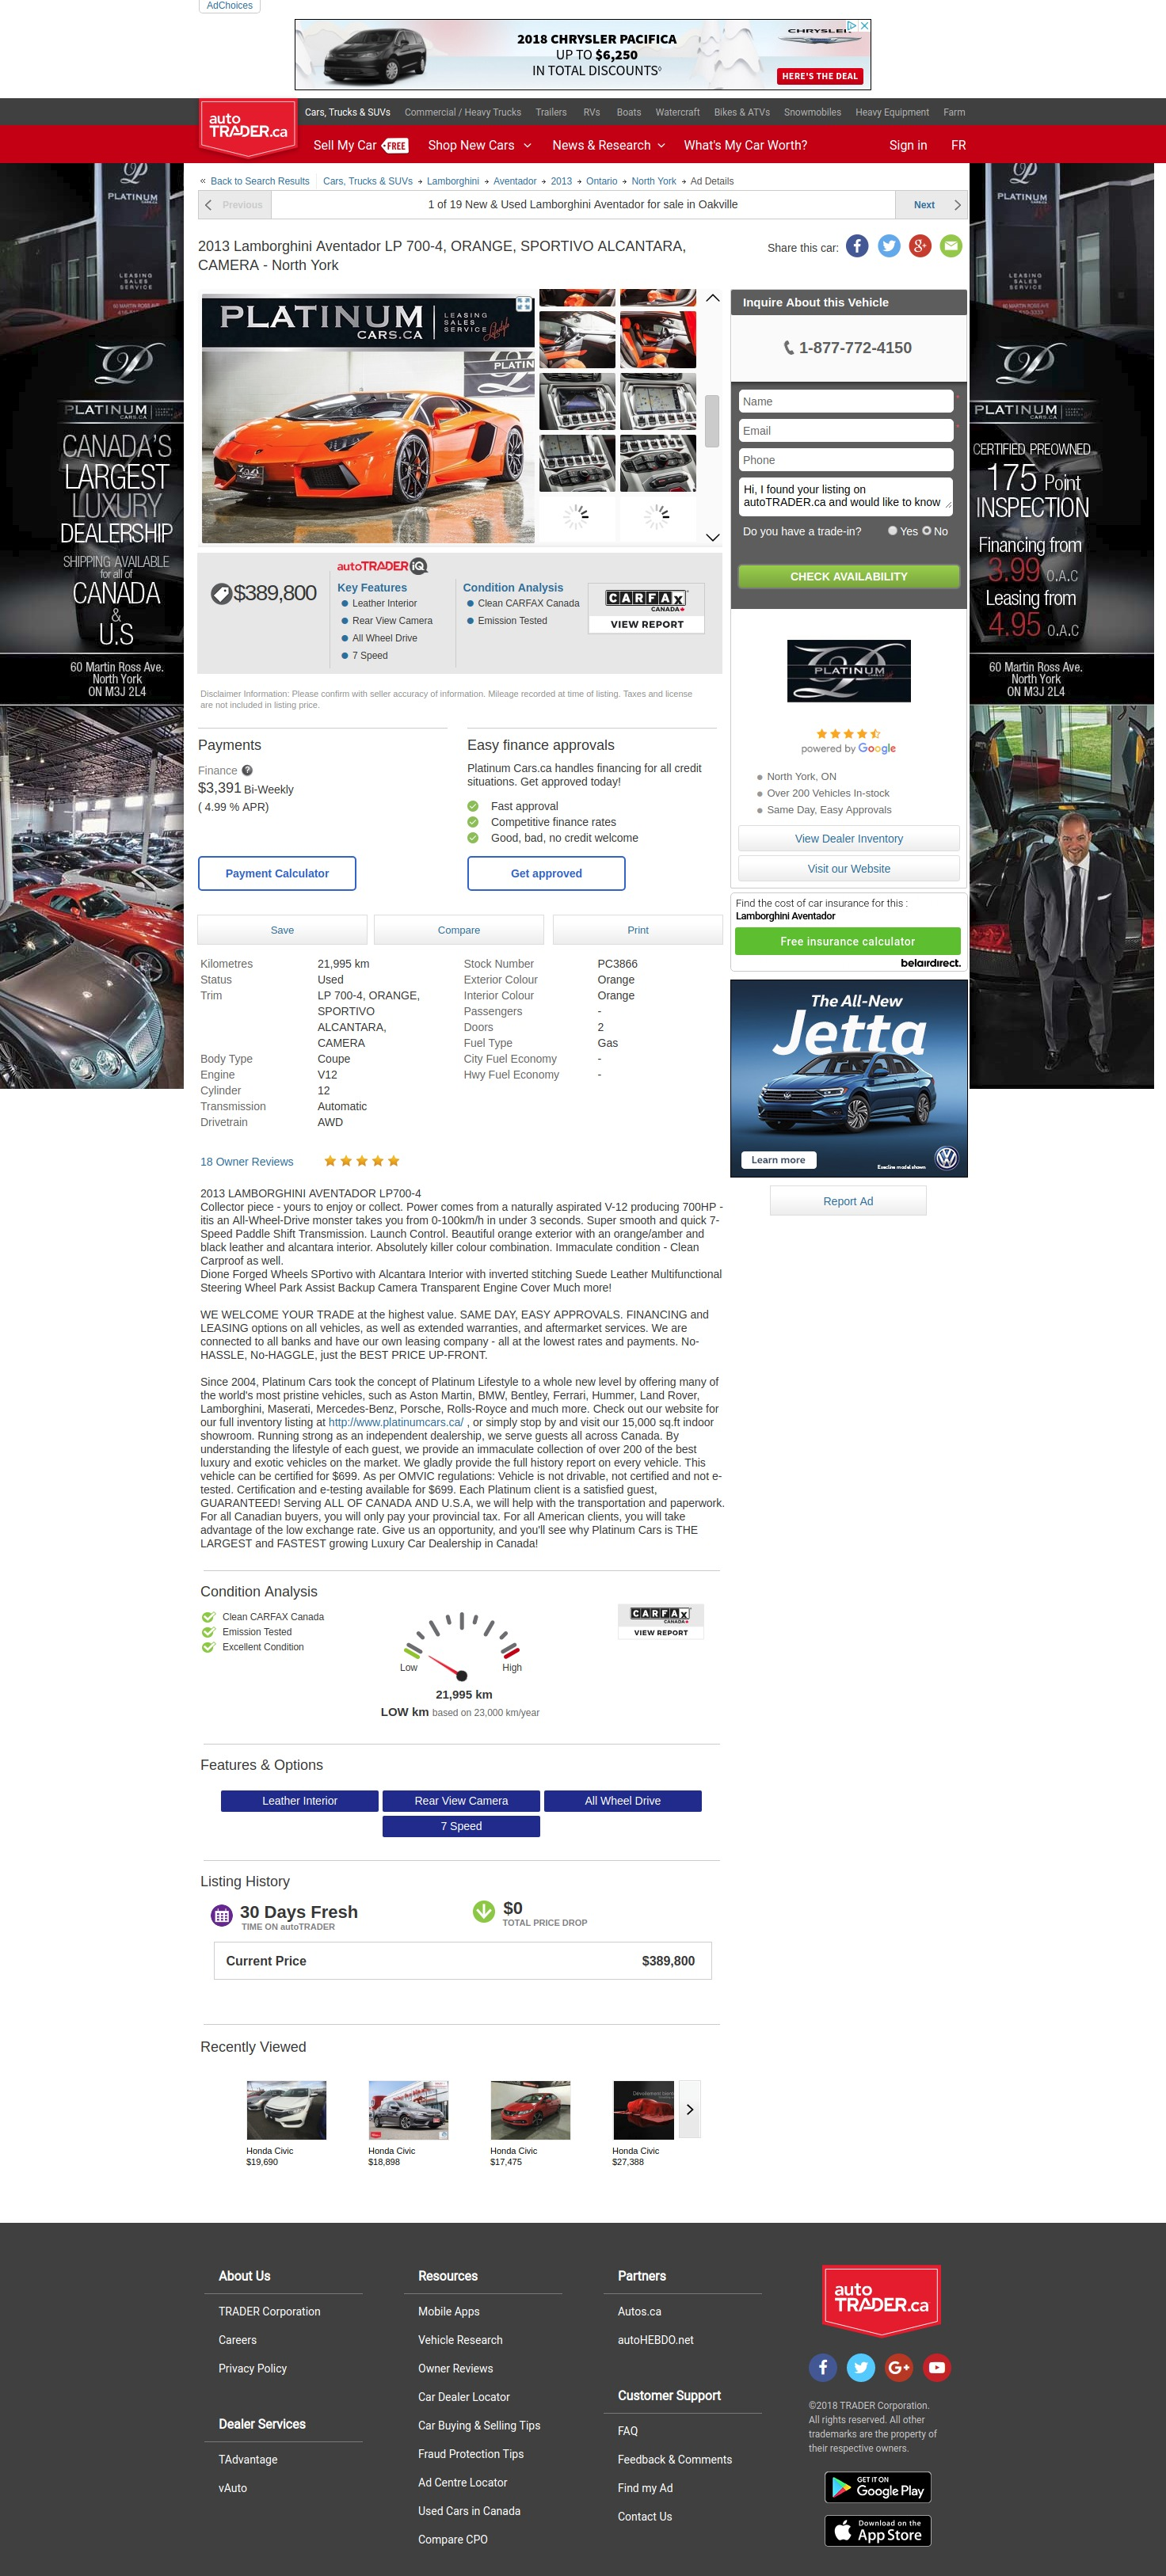car: (705, 531, 721, 545)
